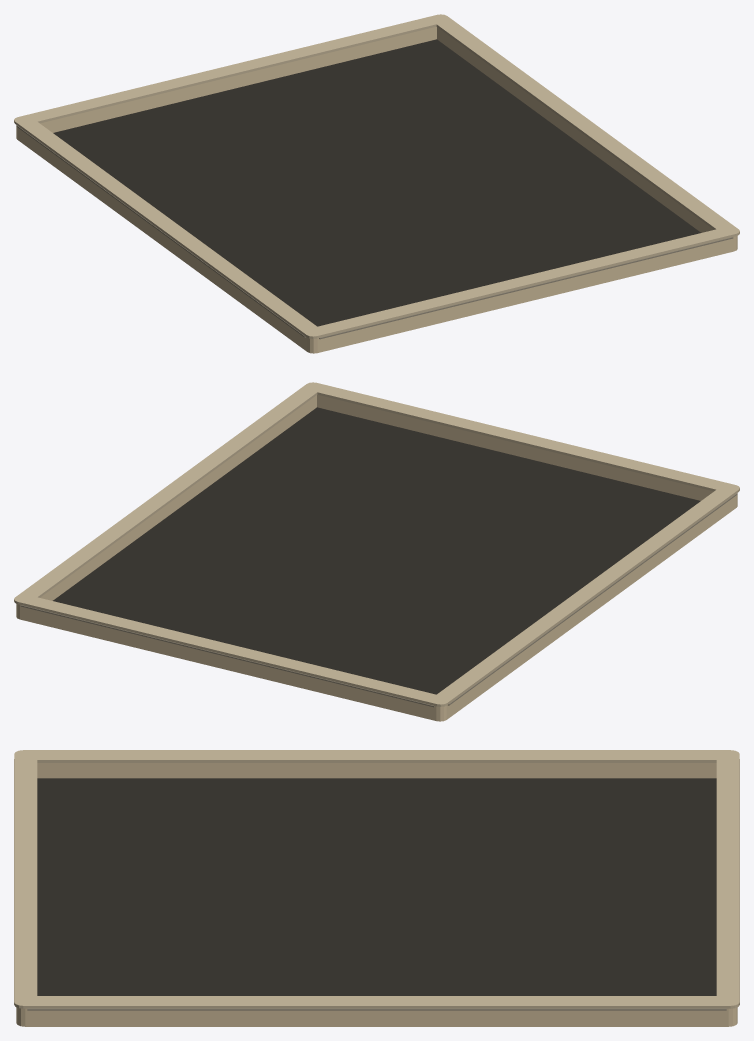
Rendered from SM_Homes_H02_Roof_LOD1.fbx.
3 renders of one model, top to bottom at view 1: azimuth 30°, elevation 25°; view 2: azimuth 150°, elevation 25°; view 3: azimuth 270°, elevation 25°, orthographic. The views are drawn at different scales.
Visible parts, largest first — view 1: SM_Homes_H02_Roof_LOD1; view 2: SM_Homes_H02_Roof_LOD1; view 3: SM_Homes_H02_Roof_LOD1.
Part boxes in pixels (x1=…): SM_Homes_H02_Roof_LOD1: x1=14, y1=14, x2=739, y2=353; SM_Homes_H02_Roof_LOD1: x1=14, y1=382, x2=739, y2=721; SM_Homes_H02_Roof_LOD1: x1=14, y1=750, x2=739, y2=1026.
Bounding box in the file's own units: 7.56 × 9.06 × 0.34.
